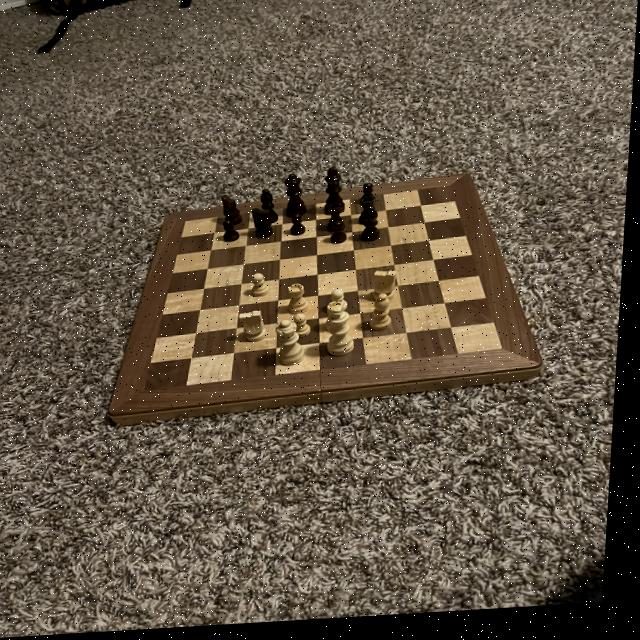bishop: (361, 208, 384, 248), (261, 190, 283, 227)
black-bishop: (321, 169, 352, 219)
black-king: (221, 195, 247, 231), (253, 210, 277, 243)
black-knight: (289, 216, 312, 242), (331, 225, 353, 251), (359, 186, 381, 210), (222, 222, 244, 246)
black-pawn: (284, 176, 313, 223)
black-queen: (327, 206, 351, 238), (359, 199, 383, 230)
black-rook: (370, 297, 400, 338)
white-bishop: (328, 308, 362, 363)
white-king: (372, 272, 404, 308), (241, 312, 273, 347)
white-knight: (250, 275, 277, 302), (331, 293, 354, 318), (294, 316, 316, 342)
white-pawn: (278, 322, 313, 372)
white-queen: (288, 286, 315, 320), (327, 304, 353, 339)
